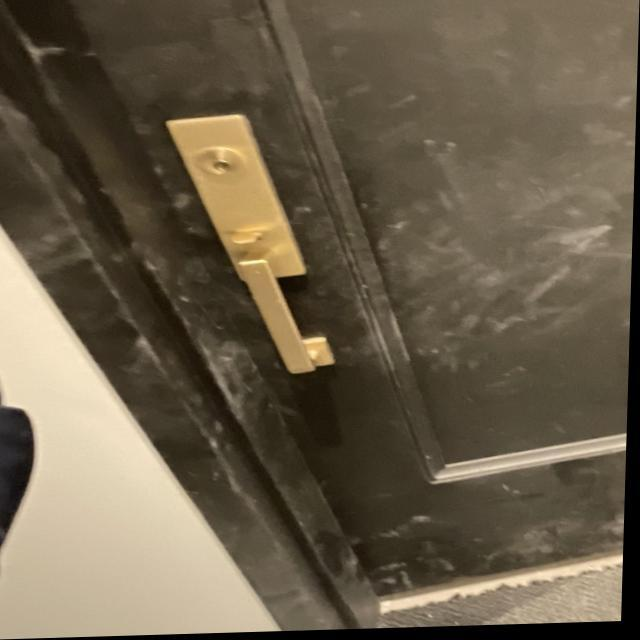door_handle: (214, 251, 353, 384)
